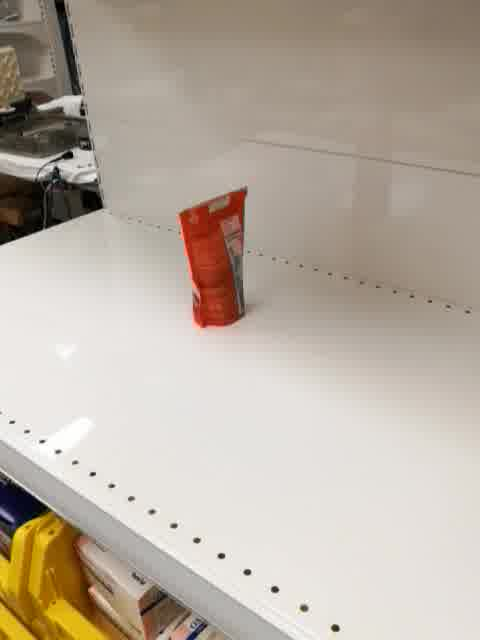whitechia: (176, 181, 254, 334)
